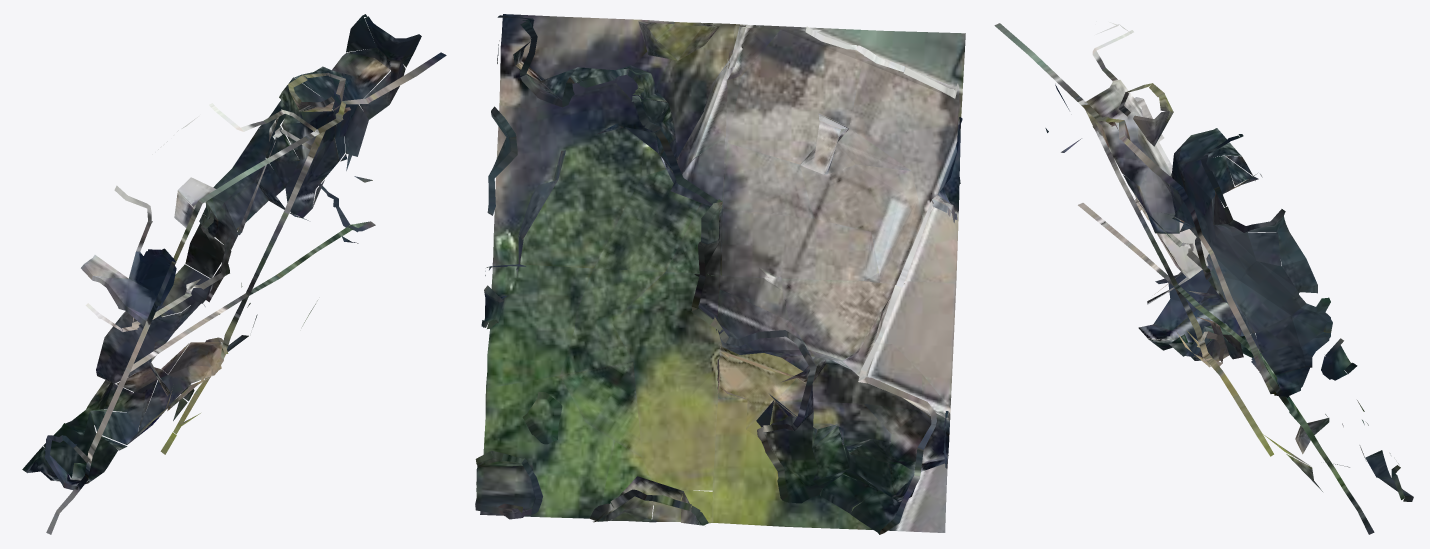
The model's file is AJVsH2wFP4J4bFMfN3bfWh3BKa8nx8XB7P3rGD4lLKyCKTL2-eAOiPPjkE76qi1-2AmOZ5iuns0hzxPrhUkToK6_TmoM4ptE0G2BEWNgBe0iQCP0JkTLzv5GCqqa_Wi2Isr-M2nZtotSH8lspUVFCx0Ahqrw.glb.
The picture shows the model from 3 angles, left to right: view 1: azimuth 30°, elevation 25°; view 2: azimuth 150°, elevation 25°; view 3: azimuth 270°, elevation 25°; orthographic projection. The views are drawn at different scales.
Size of the model in its own units: 39.42 by 38.19 by 34.3.
2 materials, 2 textured.
